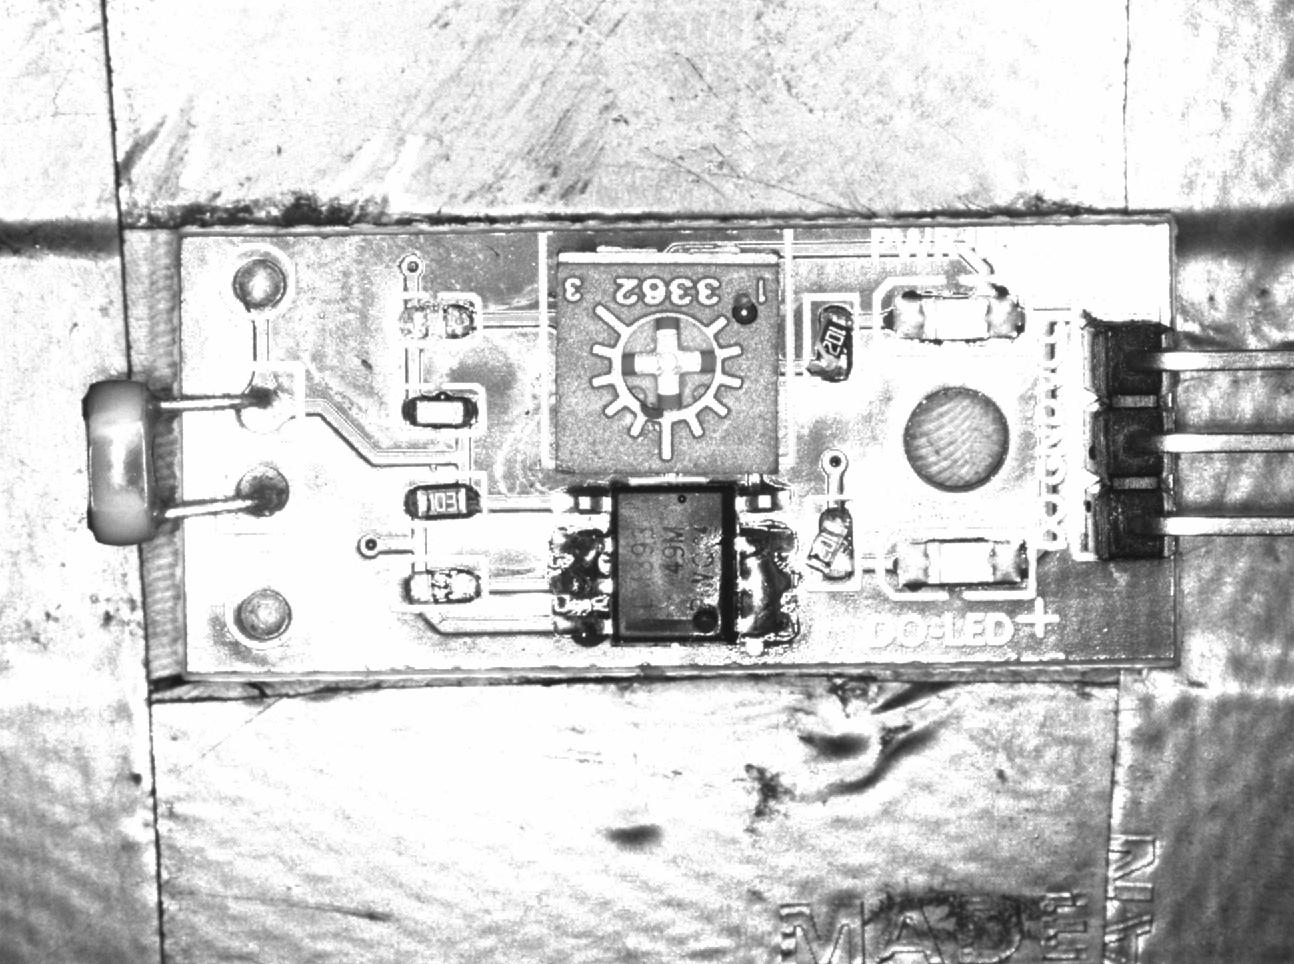bridge: (734, 523, 801, 647), (547, 526, 614, 602)
lifted: (806, 495, 860, 591), (805, 293, 858, 386)
miss: (389, 560, 488, 610), (390, 293, 483, 344)
ok: (386, 475, 487, 523), (390, 387, 483, 435)
